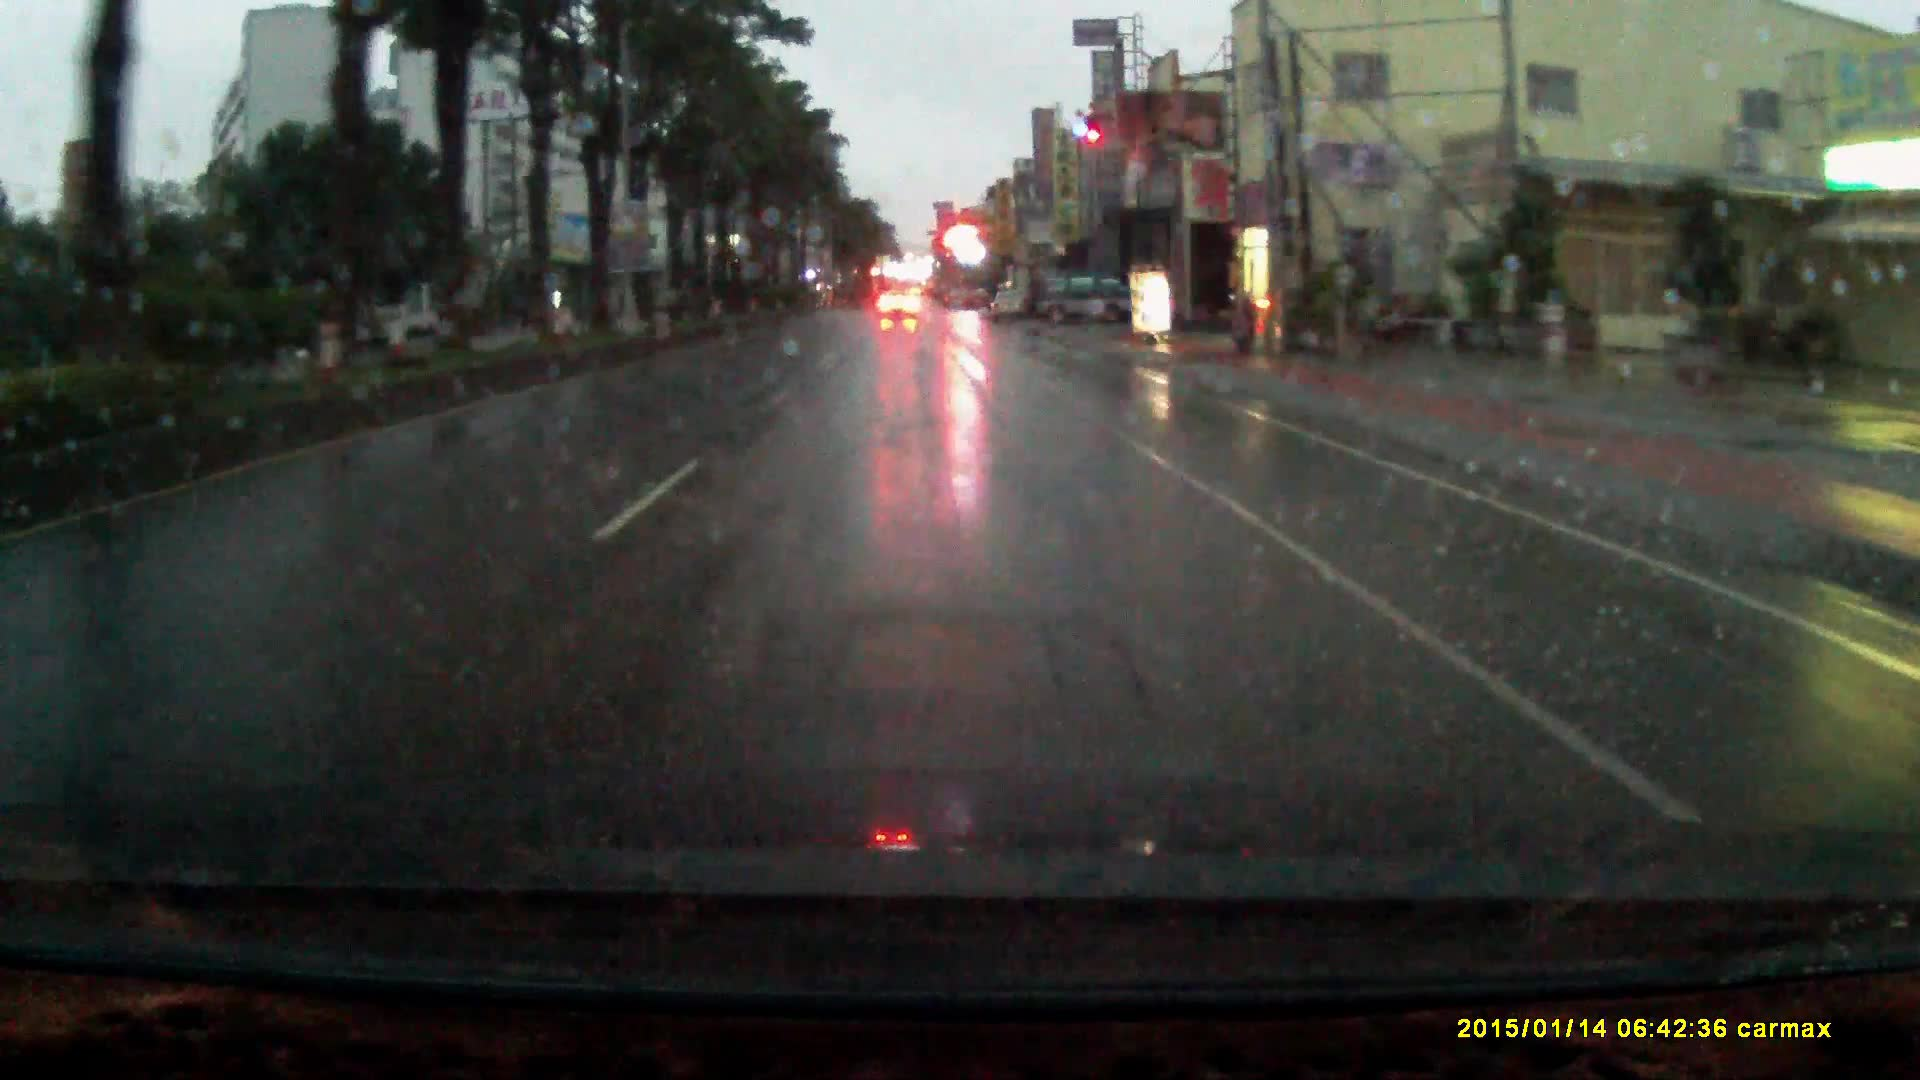vehicle: (1038, 270, 1135, 326), (880, 291, 924, 324), (992, 287, 1031, 324)
